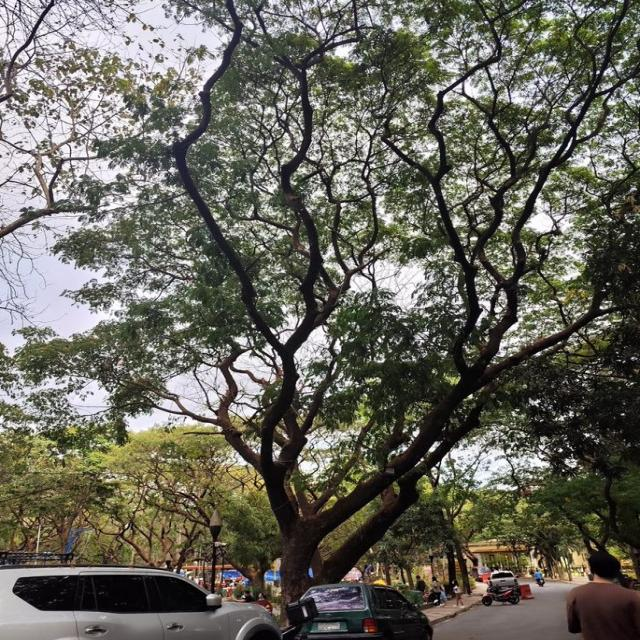Acacia: (68, 0, 640, 553)
